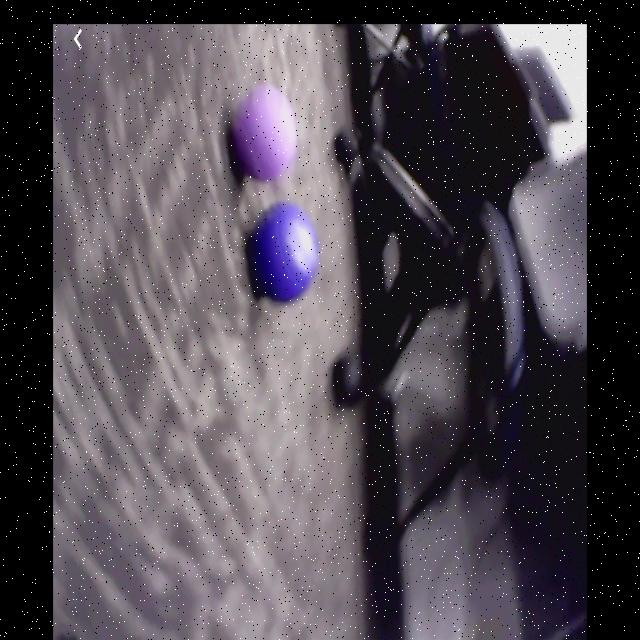ball: (245, 204, 317, 304), (235, 88, 298, 179)
